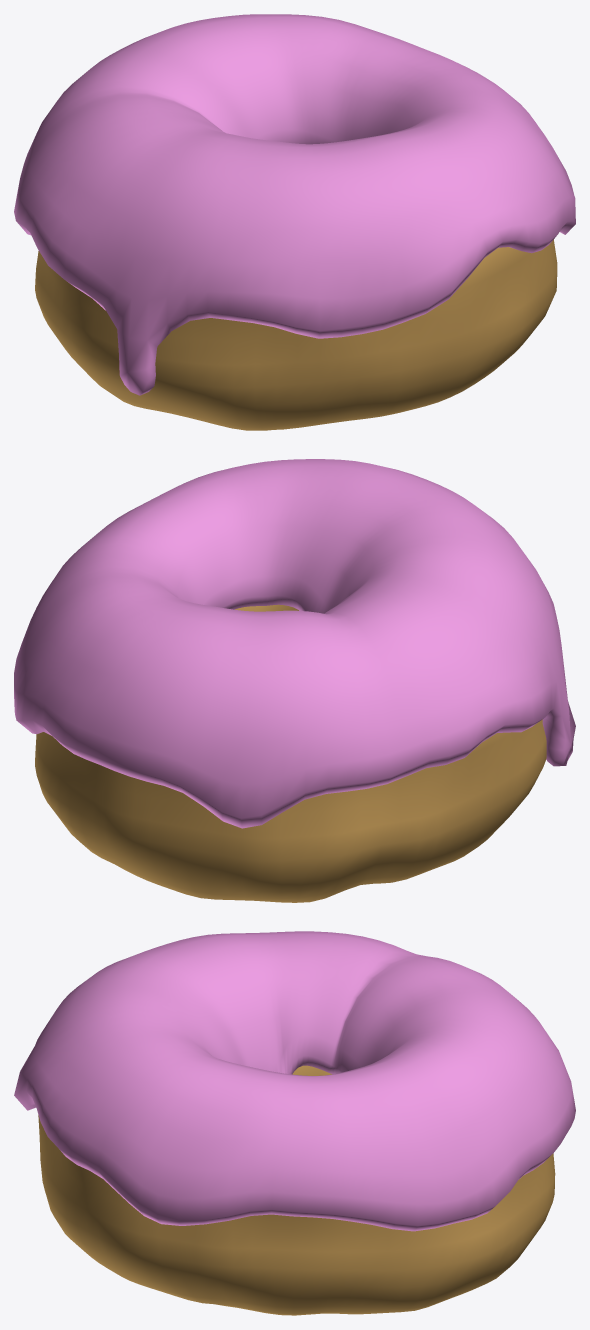
The model's file is donut2.fbx.
3 renders of one model, top to bottom at view 1: azimuth 30°, elevation 25°; view 2: azimuth 150°, elevation 25°; view 3: azimuth 270°, elevation 25°, orthographic. The views are drawn at different scales.
Visible parts, largest first — view 1: Icing, Donut; view 2: Icing, Donut; view 3: Icing, Donut.
Part boxes in pixels (x1,y1,x2,y2): Icing: [14, 14, 575, 395]; Donut: [35, 239, 557, 430]; Icing: [14, 459, 575, 828]; Donut: [35, 604, 546, 902]; Icing: [14, 931, 575, 1231]; Donut: [38, 1065, 555, 1315].
Size of the model in its own units: 28.98 by 16.83 by 31.13.
